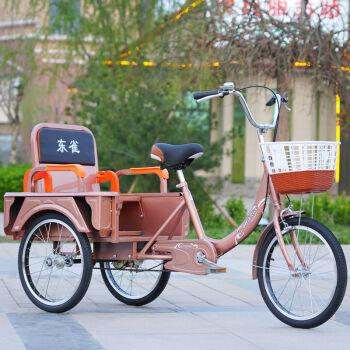empty: (3, 81, 350, 331)
